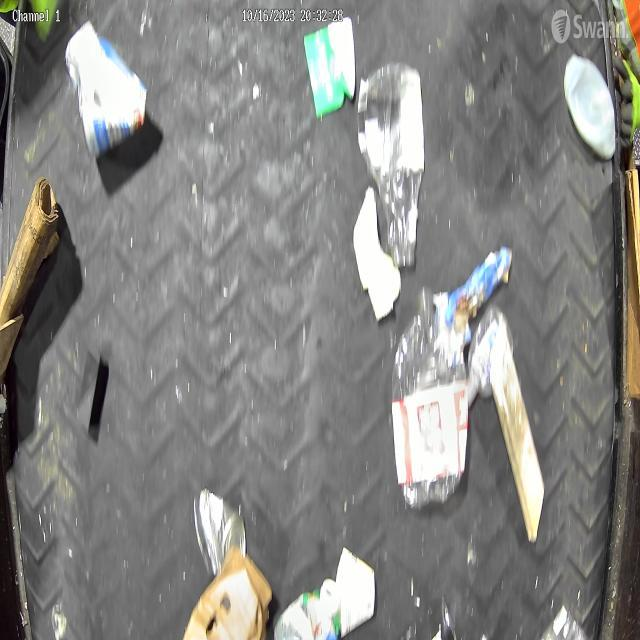can: (193, 487, 247, 577)
milk_jug: (563, 54, 617, 160)
plastic_bottle: (391, 281, 469, 509)
